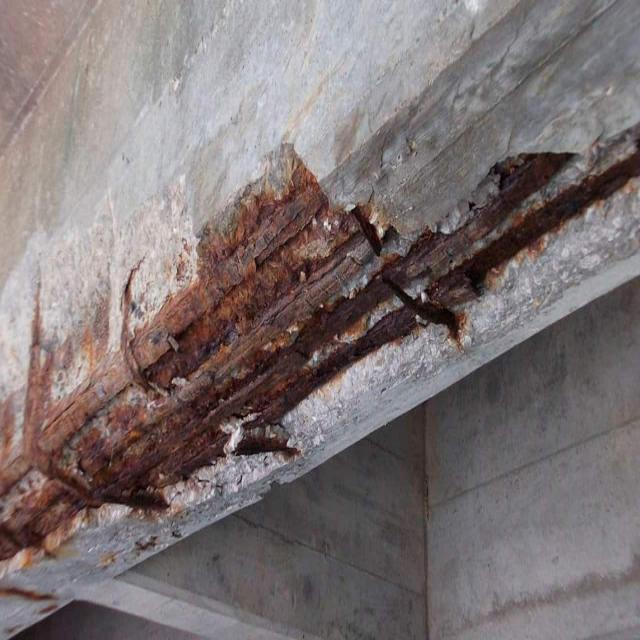Crevice Corrosion: (0, 126, 639, 560)
